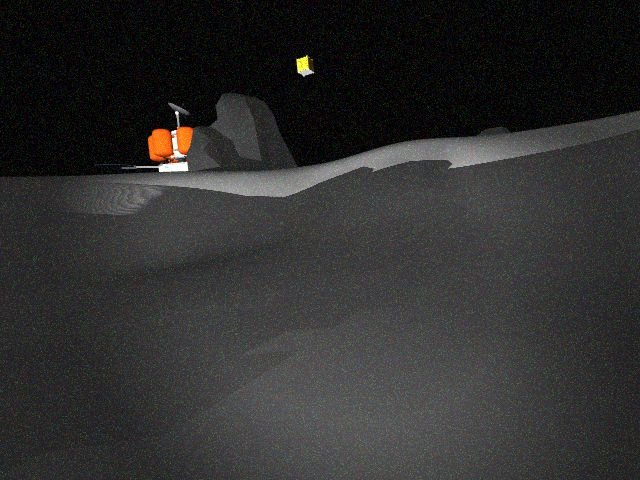cubesat: (292, 53, 323, 80)
